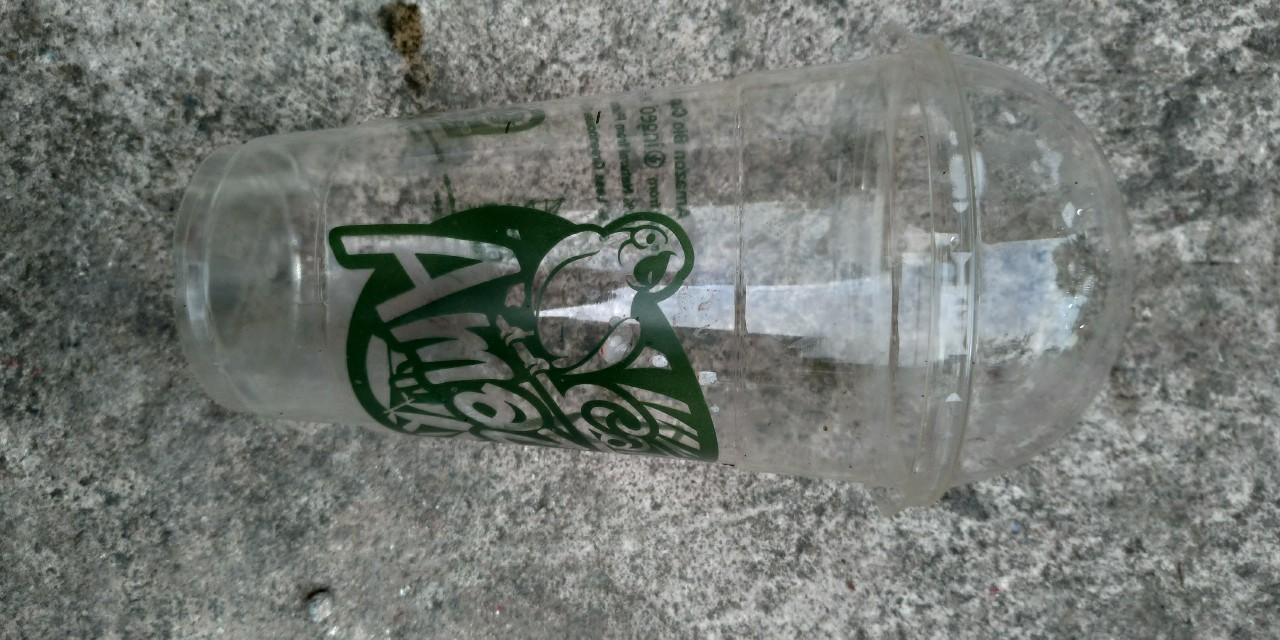PlasticCup: (174, 31, 1137, 510)
